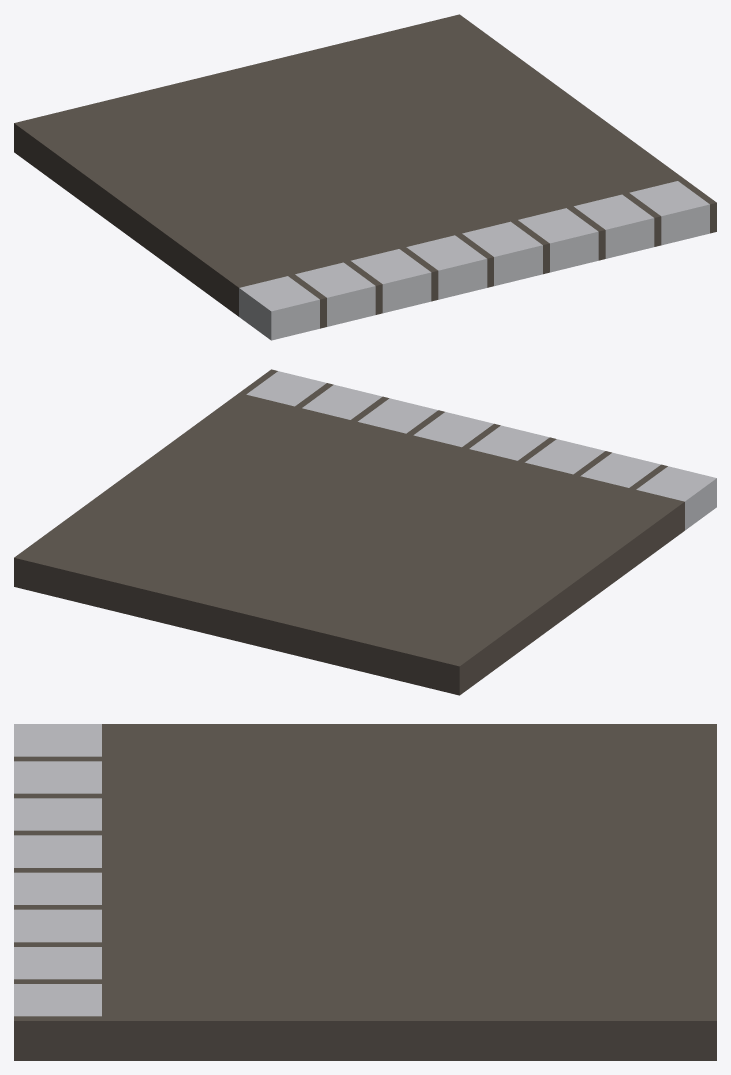
The model's file is sidewalk_b.obj.
3 renders of one model, top to bottom at view 1: azimuth 30°, elevation 25°; view 2: azimuth 150°, elevation 25°; view 3: azimuth 270°, elevation 25°, orthographic. The views are drawn at different scales.
Bounding box in the file's own units: 6.4 × 0.4 × 6.4.
Materials: 1 (1 with a texture image).
